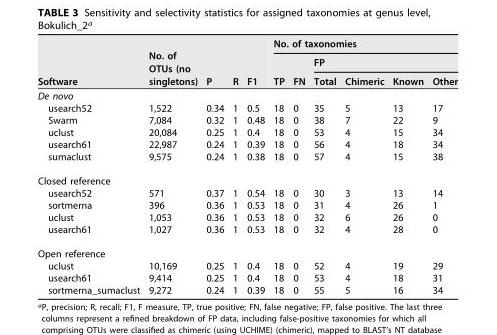table: (37, 37, 457, 295)
table column: (37, 37, 143, 295), (143, 37, 201, 295), (339, 37, 387, 295), (387, 37, 427, 295), (308, 37, 339, 295), (427, 37, 457, 295), (201, 37, 227, 295), (242, 37, 268, 295), (268, 37, 288, 295), (288, 37, 308, 295), (227, 37, 242, 295)
table column header: (37, 37, 457, 88)
table projected row header: (37, 240, 457, 259), (37, 168, 457, 186), (37, 88, 457, 101)
table row: (37, 52, 457, 71), (37, 149, 457, 168), (37, 240, 457, 259), (37, 168, 457, 186), (37, 222, 457, 240), (37, 71, 457, 88), (37, 37, 457, 52), (37, 88, 457, 101), (37, 101, 457, 113), (37, 113, 457, 125), (37, 125, 457, 137), (37, 137, 457, 149), (37, 186, 457, 198), (37, 198, 457, 210), (37, 210, 457, 222), (37, 259, 457, 271), (37, 271, 457, 283), (37, 283, 457, 295)
table spanning cell: (37, 37, 143, 88), (143, 37, 201, 88), (268, 37, 457, 52), (308, 52, 457, 71), (201, 37, 227, 88), (242, 37, 268, 88), (227, 37, 242, 88), (268, 52, 288, 88), (288, 52, 308, 88)
